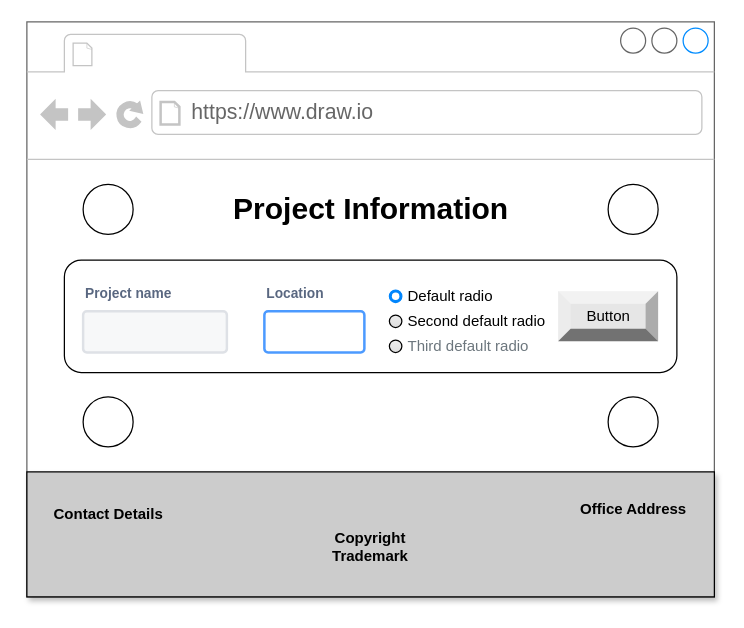
Image size: 744x628. Some labels were removed from this diagram. The centre of each missing label's shape, as x and y in pixels:
Page 3: (170,52)
Watermelon Squad: (154,331)
